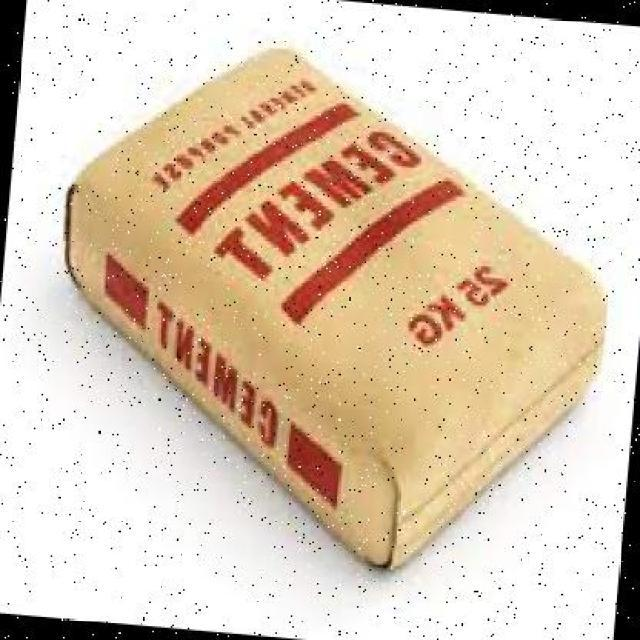gunny_bag: (81, 53, 604, 485)
